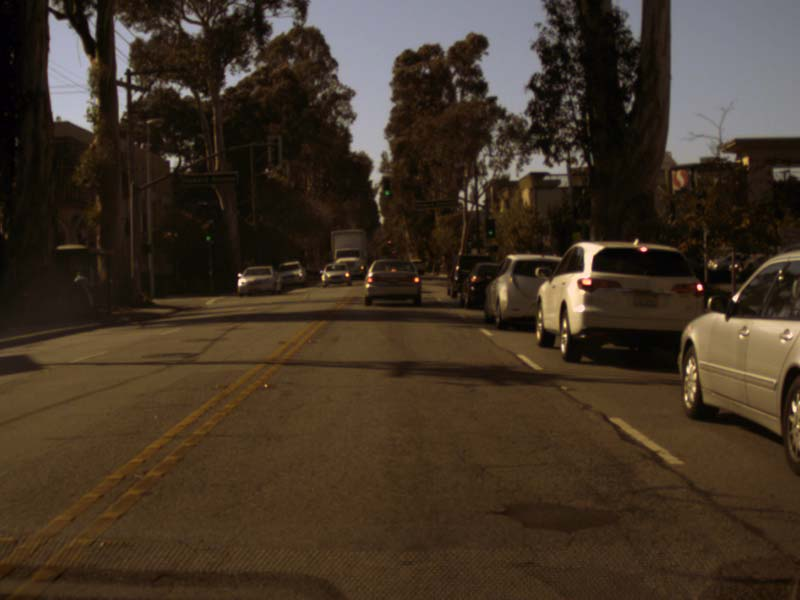Green: (485, 219, 494, 236), (204, 226, 211, 241), (384, 179, 389, 195)
